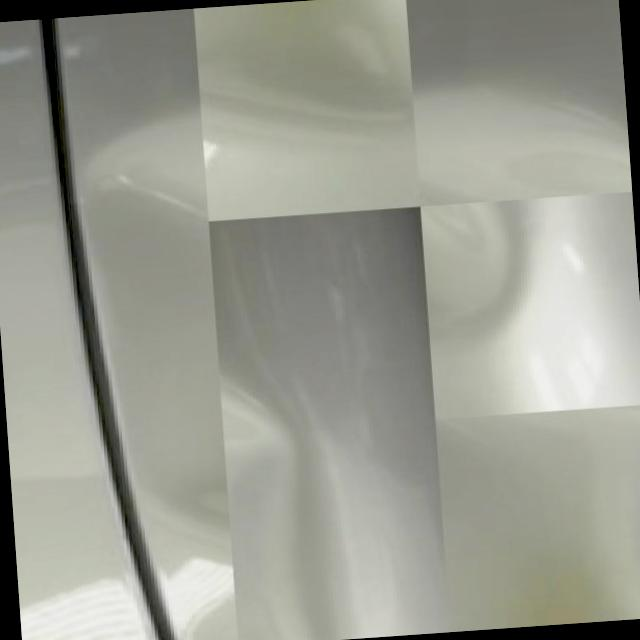dent: (80, 112, 226, 544), (447, 411, 640, 625), (196, 0, 408, 146), (212, 367, 307, 640), (421, 76, 628, 196), (422, 202, 520, 344)
